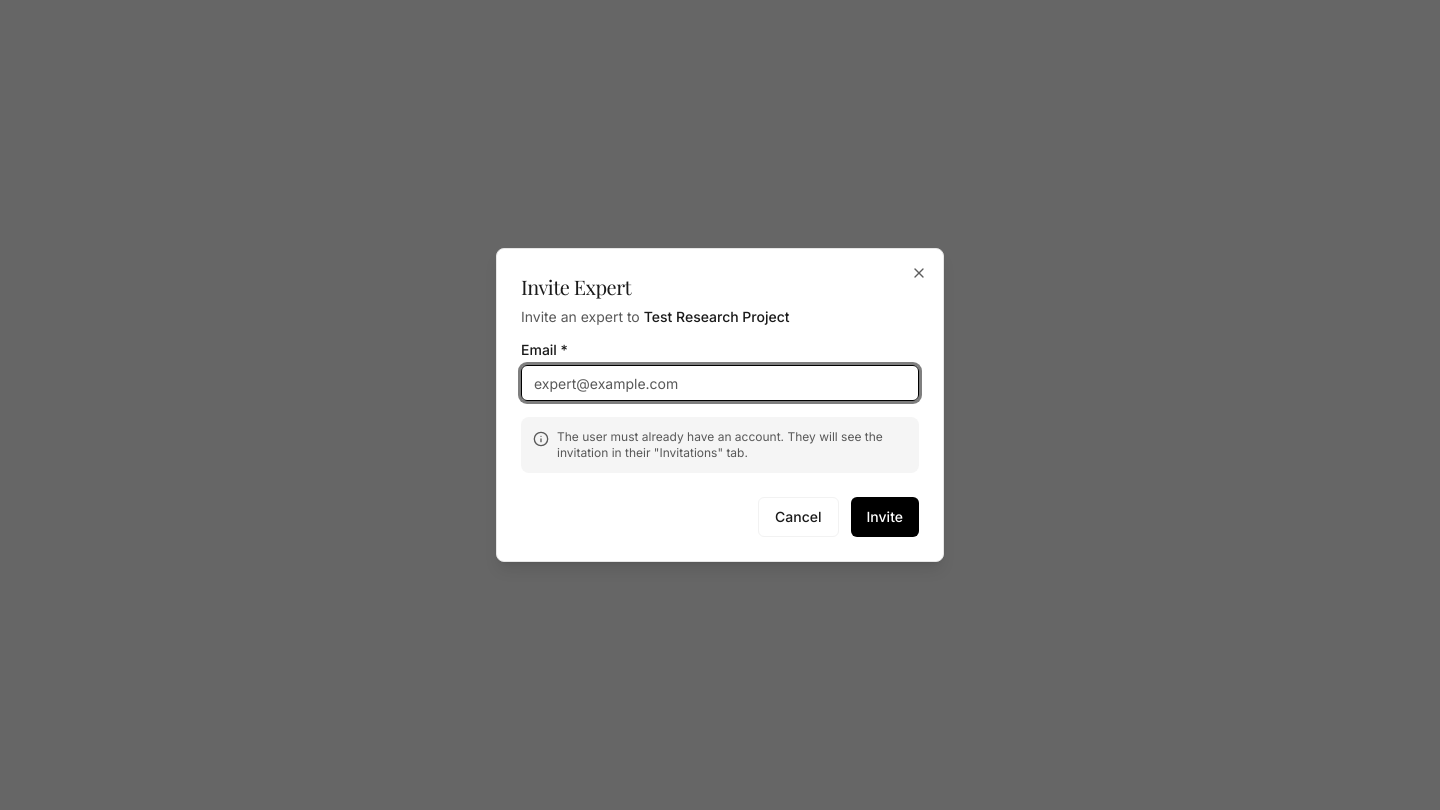
Test: InviteExpertModal › shows success state after successful invite
Type "expert@test.com" into the field with placeholder "expert@example.com" at {"x": 720, "y": 383}, box [521,365,919,401]
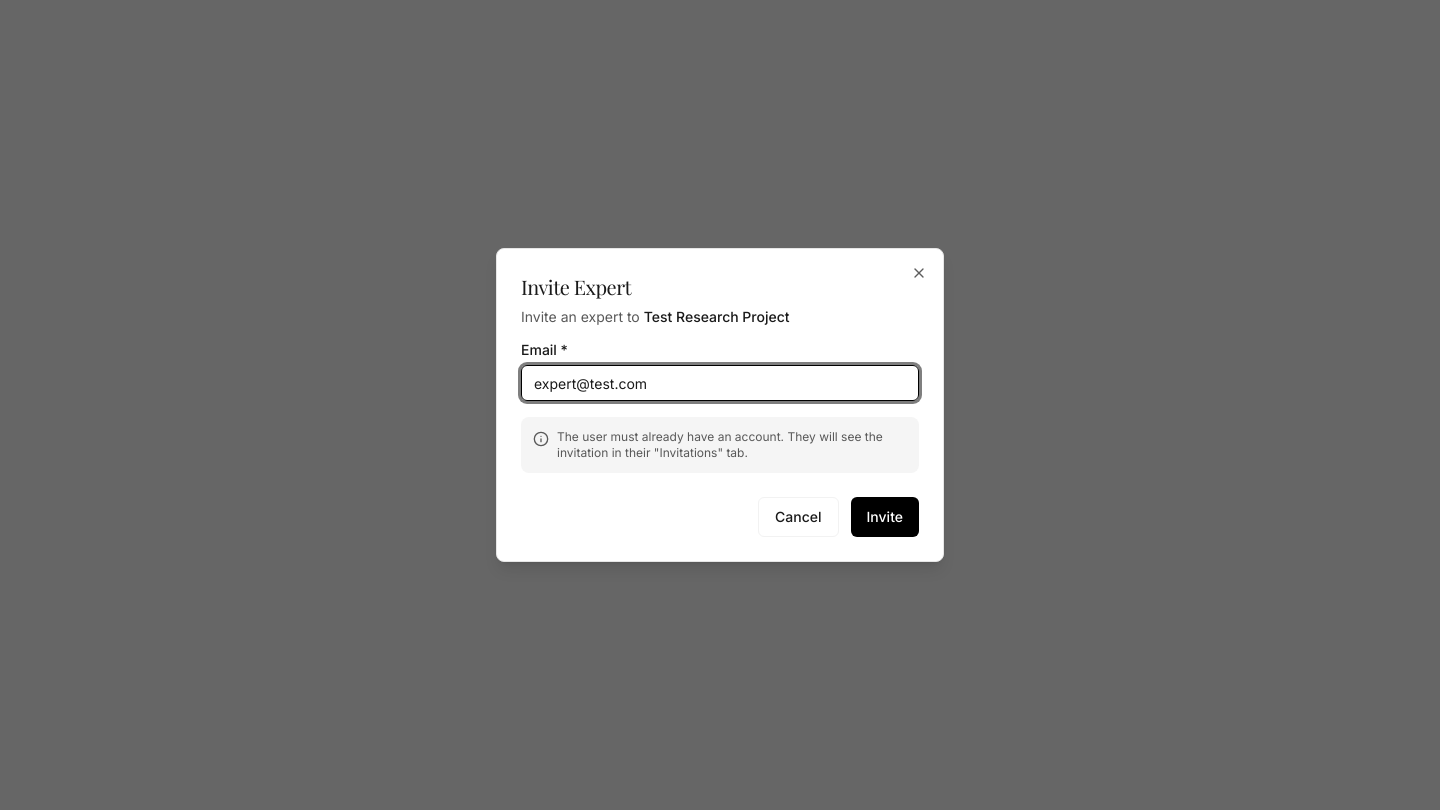
Click the button "Invite" at {"x": 885, "y": 517}, box [850,497,919,537]
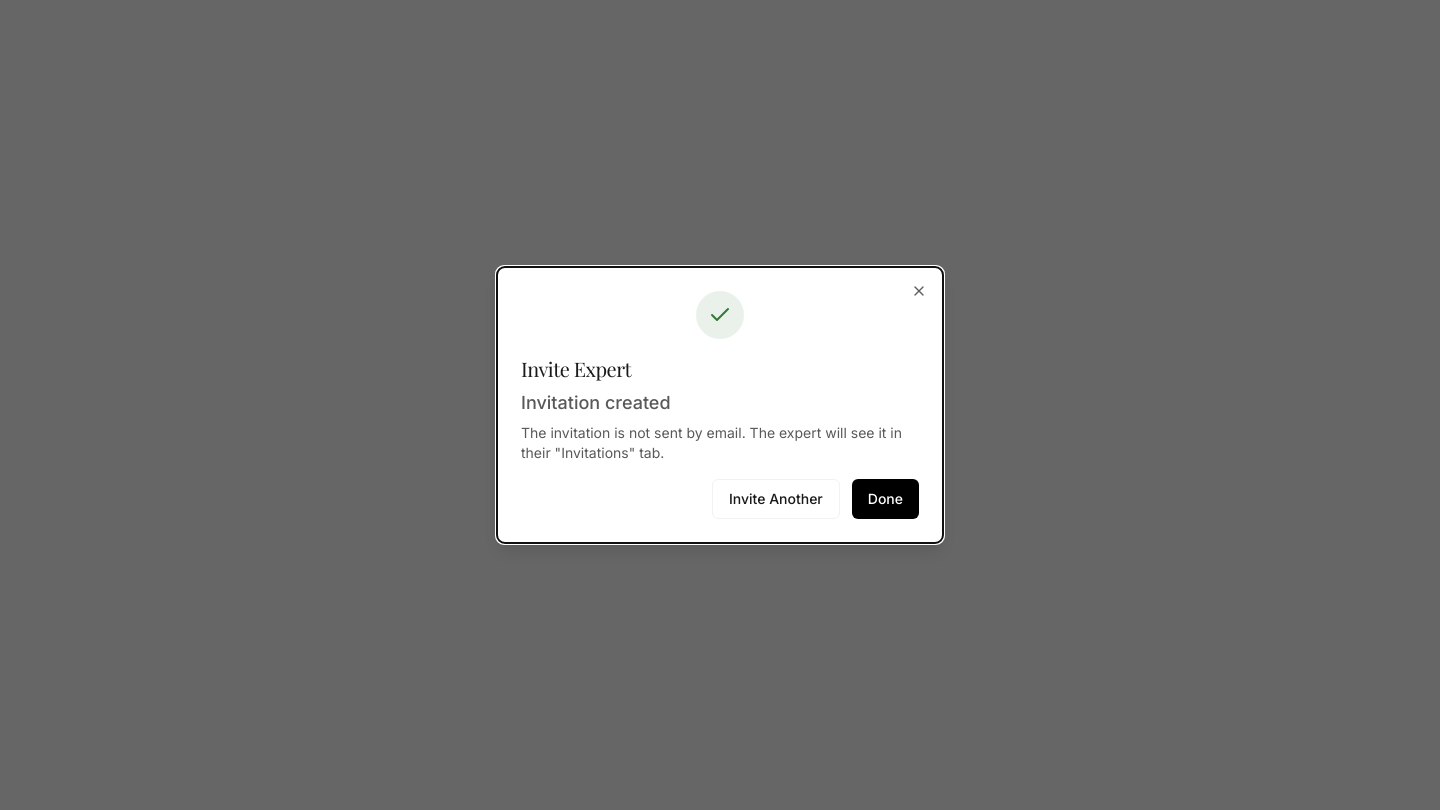
Check: the text "Invitation created" is shown, box [521,392,671,413]
